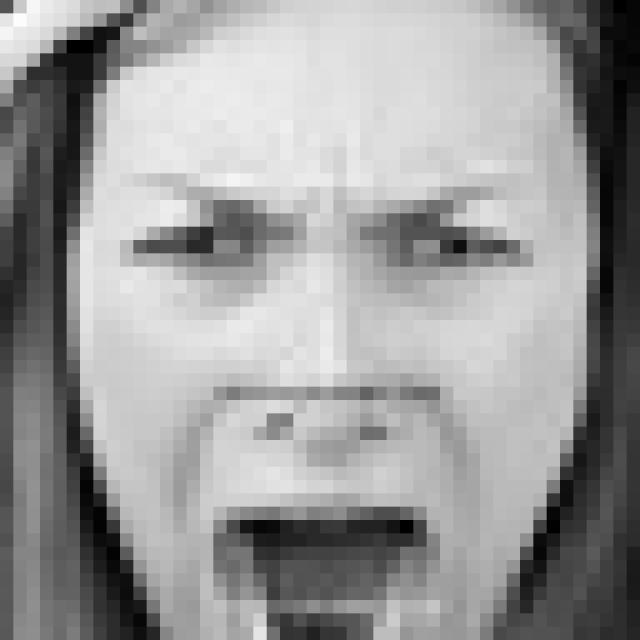angry: (104, 170, 556, 640)
